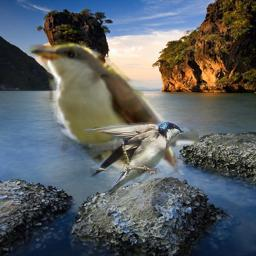Cuckoo: (24, 31, 199, 175)
Swallow: (84, 120, 185, 197)
